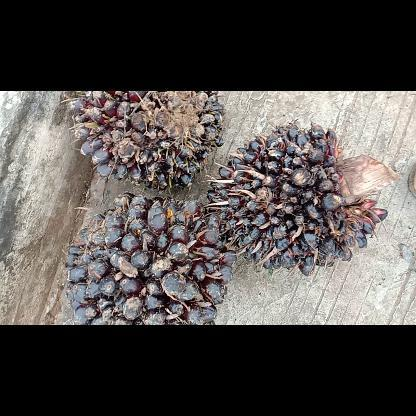TBS mentah: (204, 119, 398, 279), (62, 191, 240, 324), (68, 92, 230, 190)
